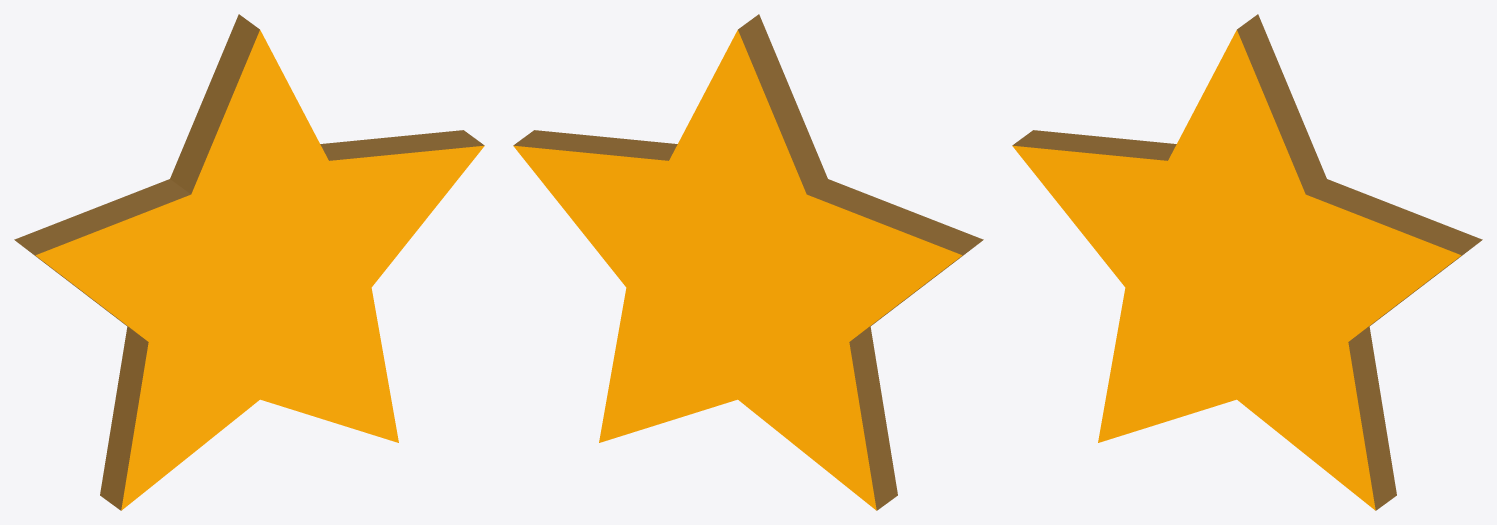
Rendered from star1.glb.
The picture shows the model from 3 angles, left to right: view 1: azimuth 30°, elevation 25°; view 2: azimuth 150°, elevation 25°; view 3: azimuth 330°, elevation 25°; orthographic projection.
Parts seen in each view (by area): view 1: Circle; view 2: Circle; view 3: Circle.
Part boxes in pixels (box(x1,y1,x2,y2)): Circle: box(14, 14, 484, 510); Circle: box(513, 14, 983, 510); Circle: box(1012, 14, 1482, 510).
Size of the model in its own units: 1.9 by 1.81 by 0.156.
